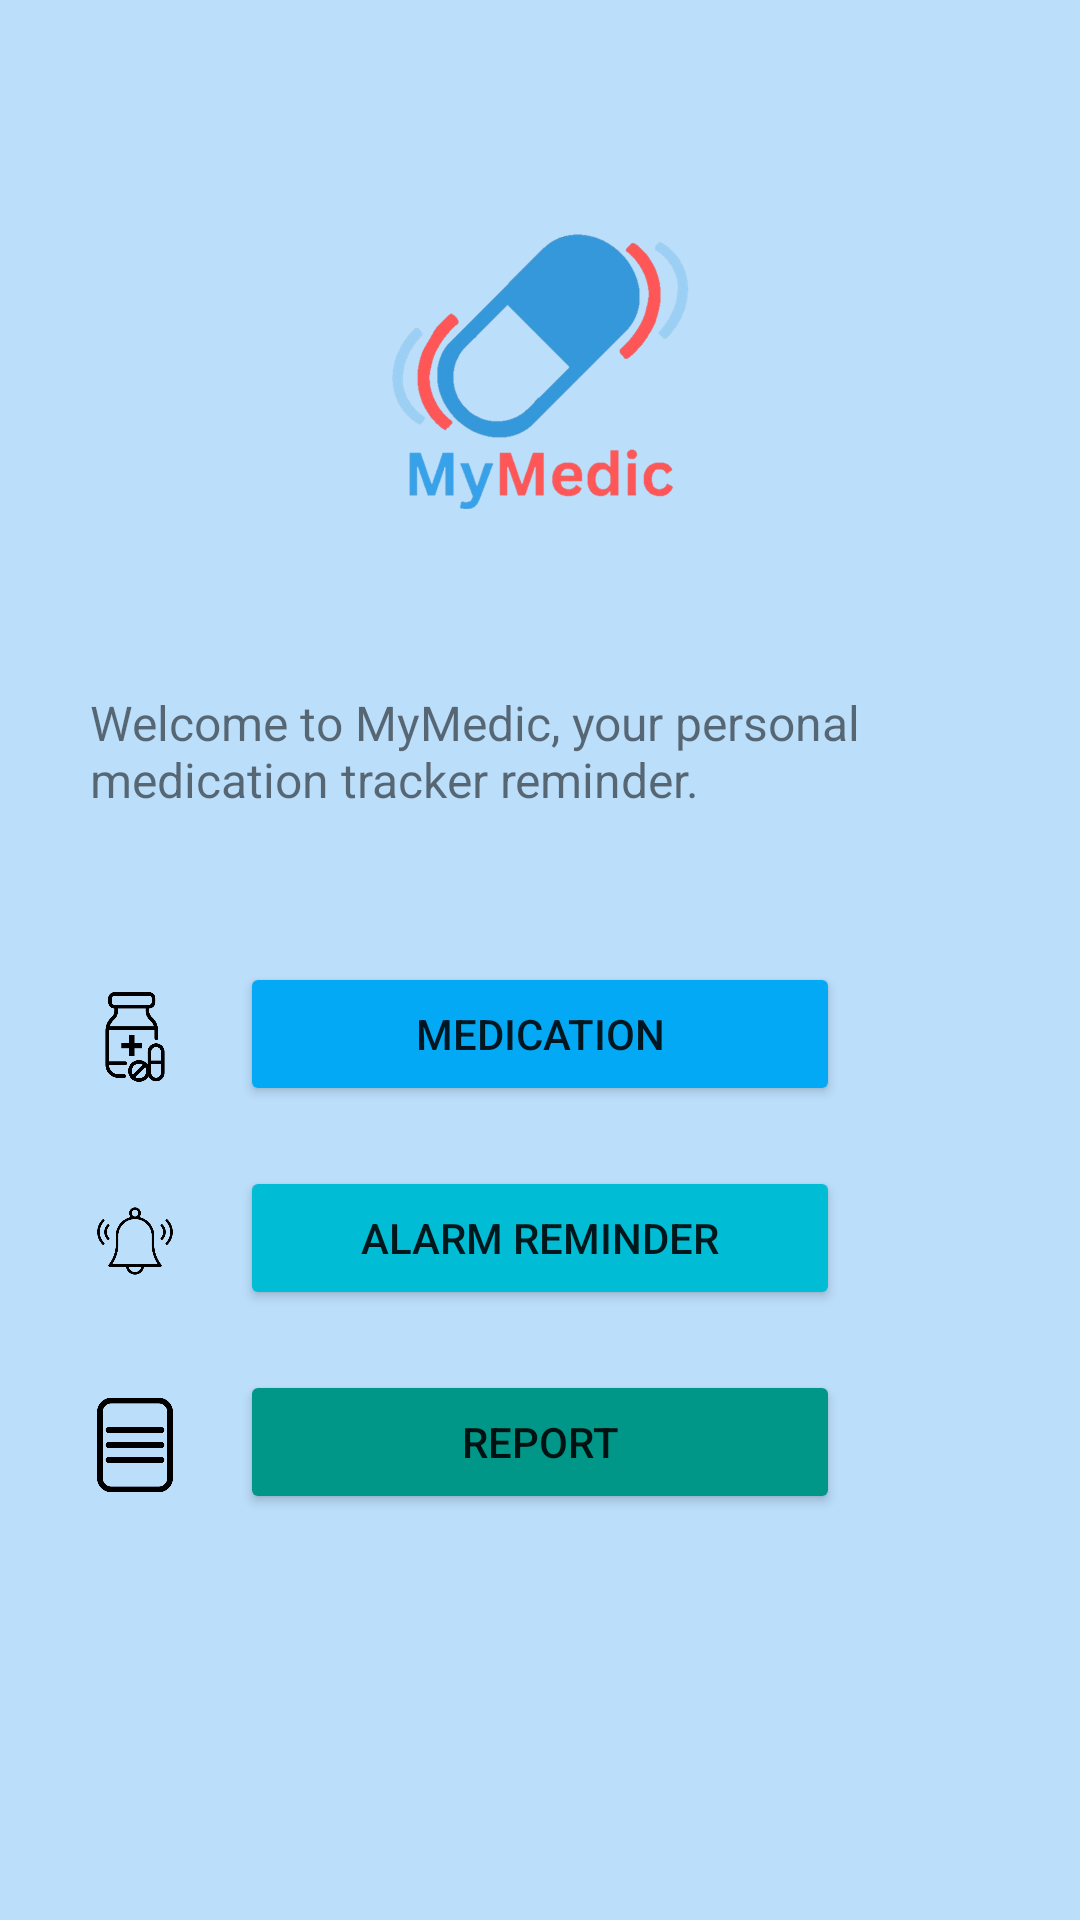

Where to tap for icons on this 1080 × 1920 app screen, as (x=x, y=y):
medicine: (x=135, y=1037)
